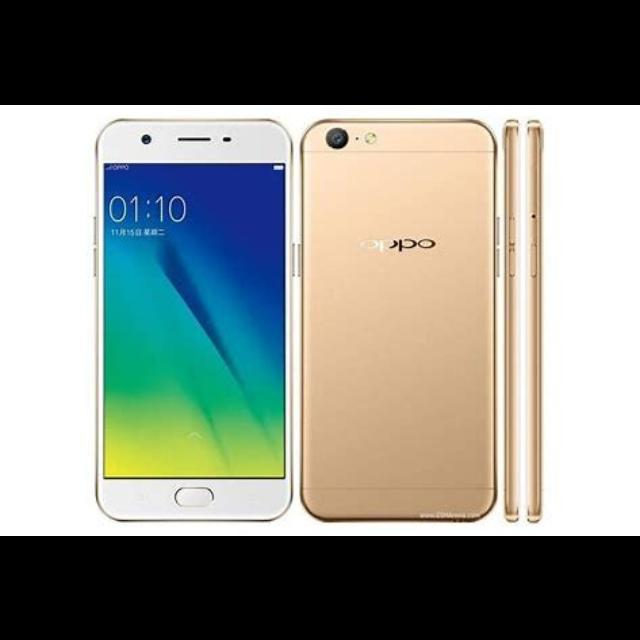Smartphone: (96, 119, 292, 522)
